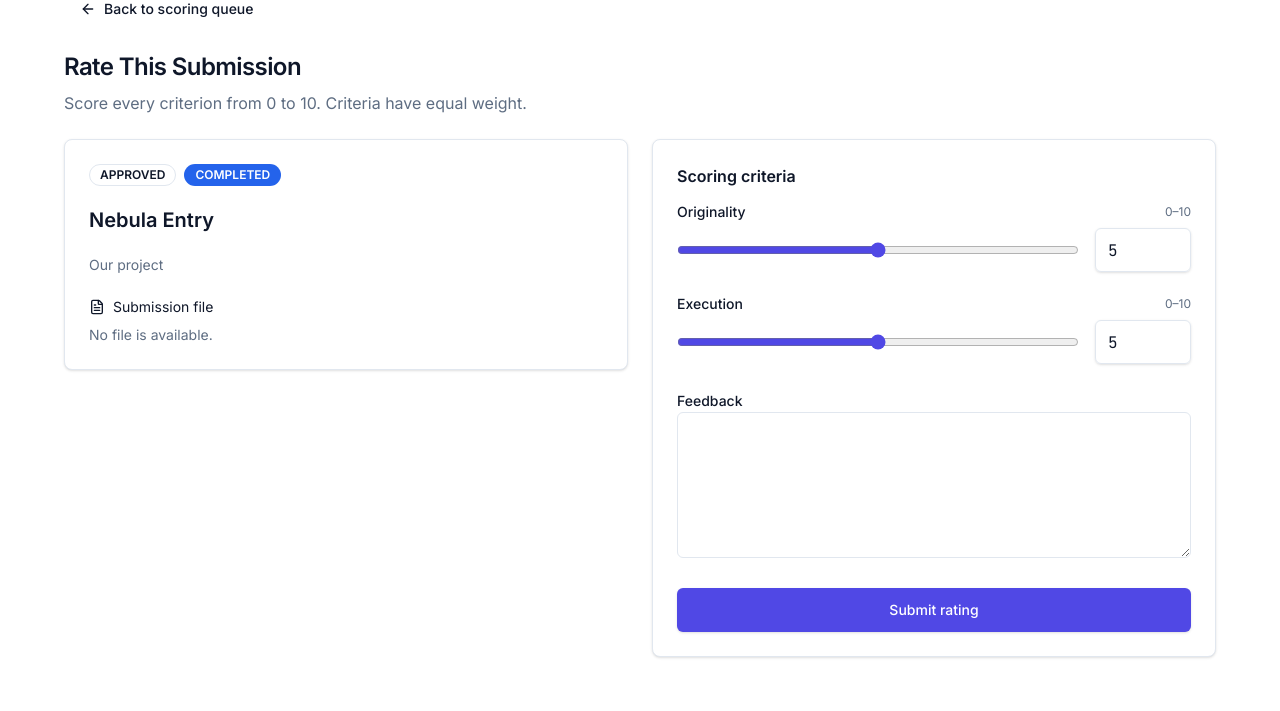
it: retries failed readback without writing a second rating
This screenshot has width=1280, height=711.
Expected: the number field labelled "Originality" is shown, [1095, 228, 1191, 272]
In the text box labelled "Feedback": (934, 485) [677, 412, 1191, 558], type "Preserved notes"
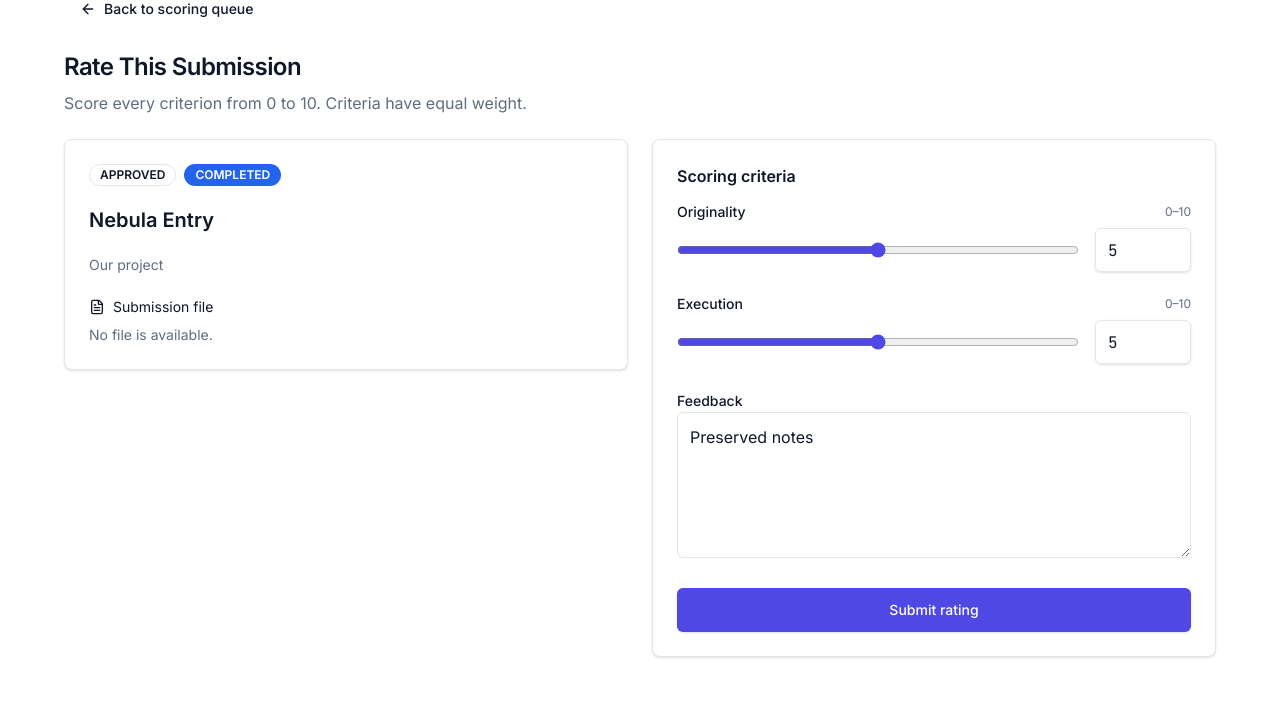
Click the button "Submit rating": (934, 610) [677, 588, 1191, 632]
(page scrolled)
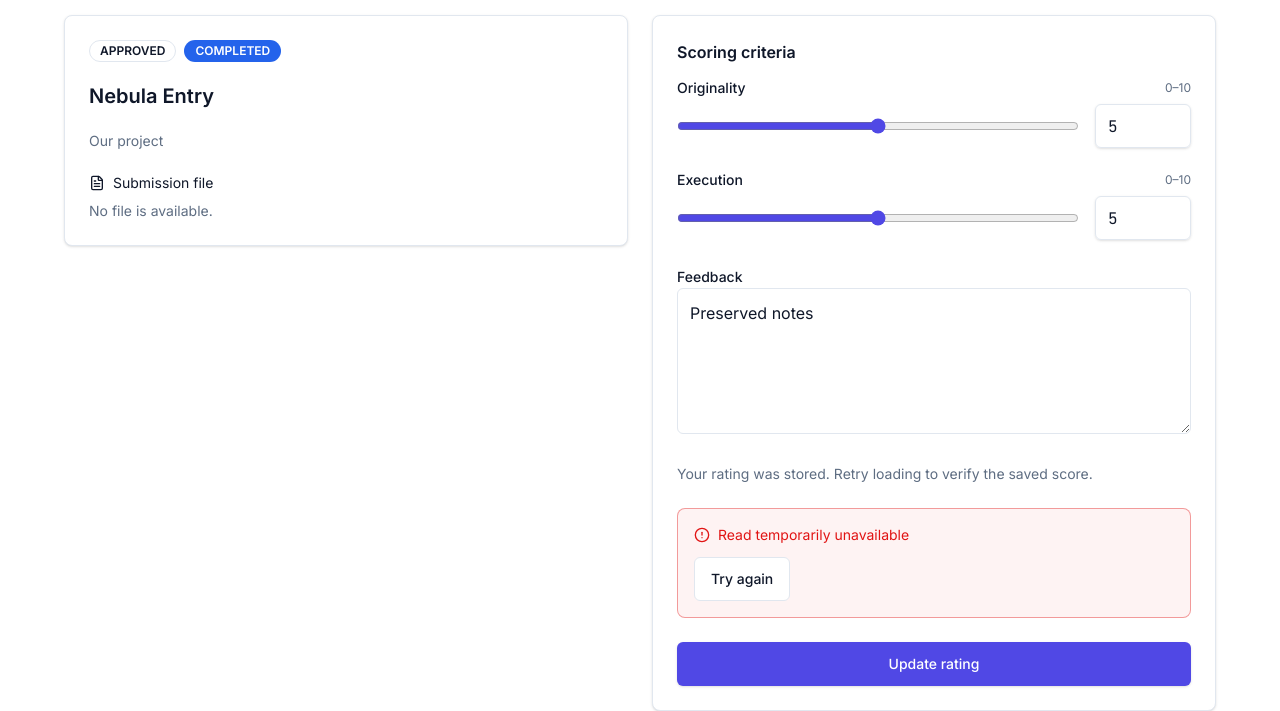
Result: the text "Your rating was stored. Retry loading to verify the saved score." is shown at [677, 465, 1093, 482]
Click the button "Try again": (742, 579) [694, 557, 790, 601]
(page scrolled)
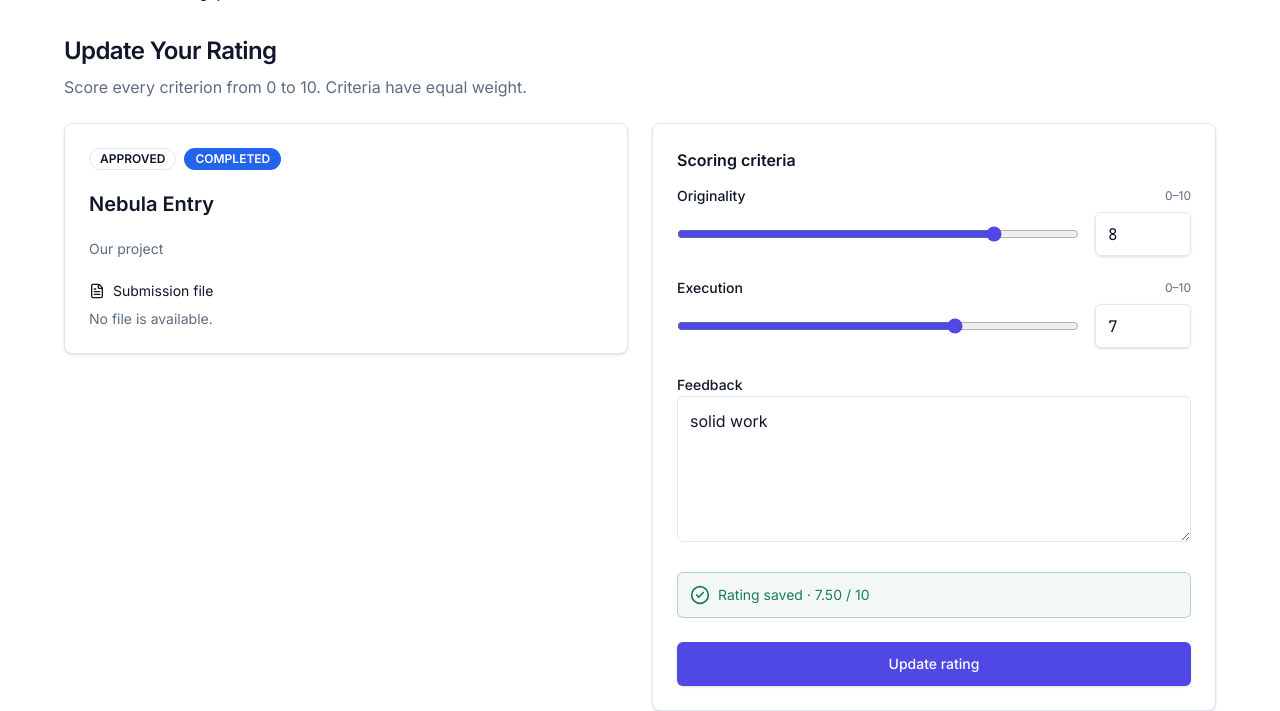
Result: the text "Rating saved · 7.50 / 10" is shown at [677, 572, 1191, 618]
Result: the number field labelled "Originality" holds "8" at [1095, 212, 1191, 256]
